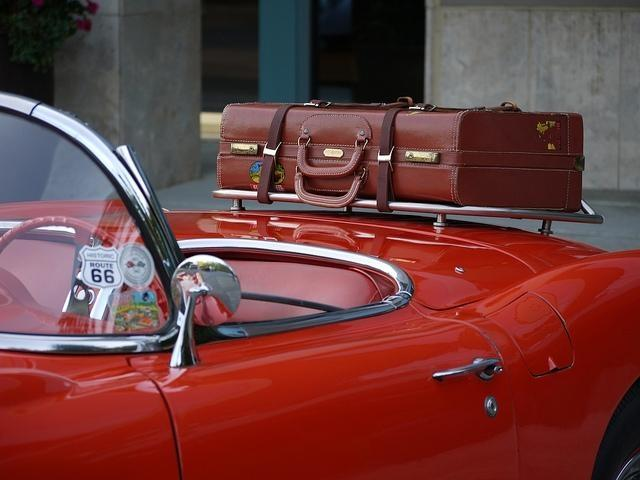car: (1, 95, 640, 480)
